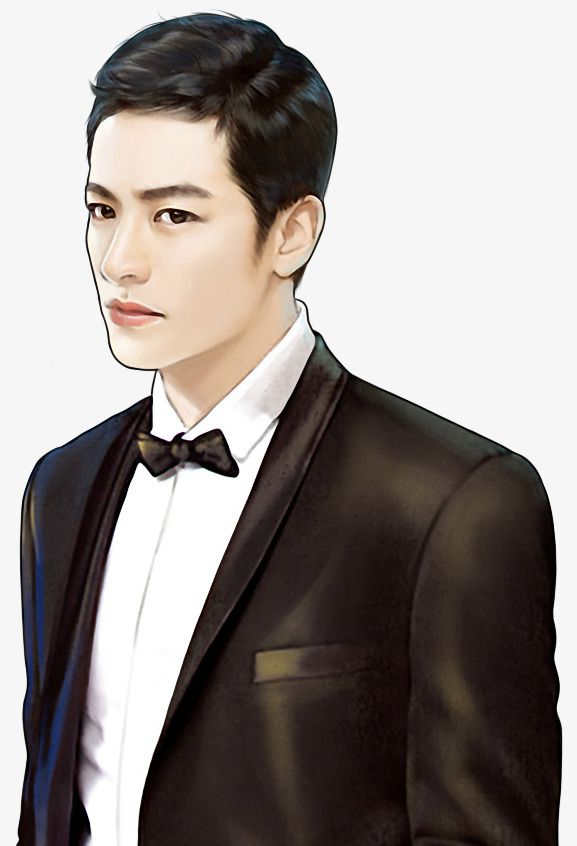person: (68, 31, 514, 846)
